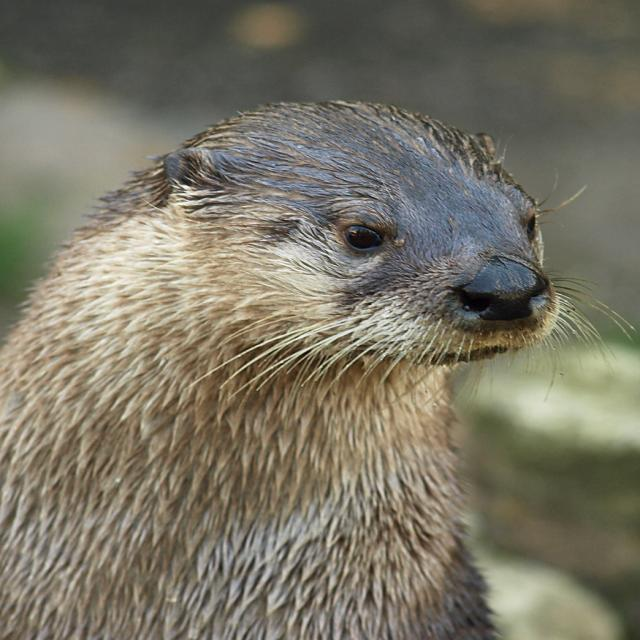otter: (1, 101, 556, 640)
